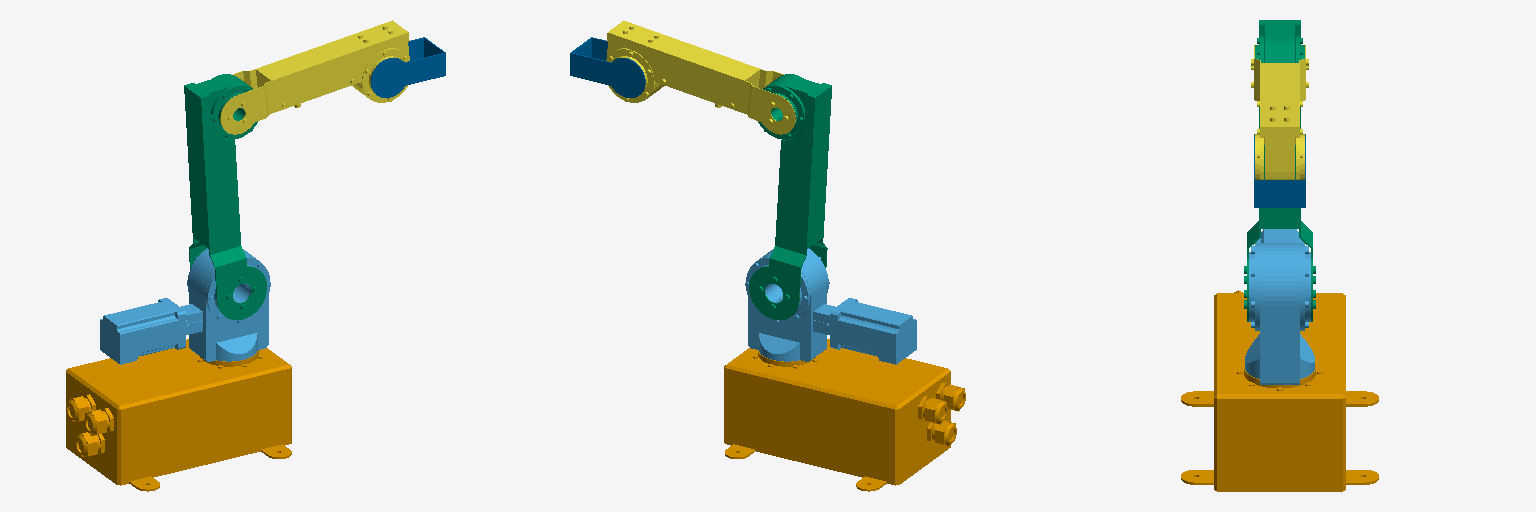
URDF robot description (igus_4dof_robot):
<?xml version="1.0"?>
<robot xmlns:xacro="http://ros.org/wiki/xacro" name="igus_4dof_robot">

<!-- URDF file for the Commonplace Robotics Mover4 robot arm -->
<!-- Version 1.1 from Oct. 04th, 2016. -->
  
  <link name="base_link">
    <visual>
	  <origin rpy="0 0 0" xyz="0 0 0"/>
      <geometry>
          <mesh filename="igus_4dof_robot_meshes/Joint0.dae"  scale="0.001 0.001 0.001"/>
        </geometry>
    </visual>
    <collision>
      <origin xyz="0 0 0" rpy="0 0 0" />
      <geometry>
          <mesh filename="igus_4dof_robot_meshes/Joint0Coll.dae" scale="0.001 0.001 0.001"/>
        </geometry>
    </collision>
  </link>
  <link name="link1">
    <visual>
	  <origin rpy="0 0 0" xyz="0 0 0"/>
      <geometry>
          <mesh filename="igus_4dof_robot_meshes/Joint1.dae"  scale="0.001 0.001 0.001"/>
        </geometry>
    </visual>
    <collision>
      <origin xyz="0 0 0" rpy="0 0 0" />
      <geometry>
          <mesh filename="igus_4dof_robot_meshes/Joint1Coll.dae" scale="0.001 0.001 0.001"/>
        </geometry>
    </collision>
  </link>
  <link name="link2">
    <visual>
	  <origin rpy="0 0 0" xyz="0 0 0"/>
      <geometry>
          <mesh filename="igus_4dof_robot_meshes/Joint2.dae"  scale="0.001 0.001 0.001"/>
        </geometry>
    </visual>
    <collision>
      <origin xyz="0 0 0" rpy="0 0 0" />
      <geometry>
          <mesh filename="igus_4dof_robot_meshes/Joint2Coll.dae" scale="0.001 0.001 0.001"/>
        </geometry>
    </collision>
  </link>
  <link name="link3">
    <visual>
	  <origin rpy="0 0 0" xyz="0 0 0"/>
      <geometry>
          <mesh filename="igus_4dof_robot_meshes/Joint3.dae"  scale="0.001 0.001 0.001"/>
        </geometry>
    </visual>
    <collision>
      <origin xyz="0 0 0" rpy="0 0 0" />
      <geometry>
          <mesh filename="igus_4dof_robot_meshes/Joint3Coll.dae" scale="0.001 0.001 0.001"/>
        </geometry>
    </collision>
  </link>
  <link name="link4">
    <visual>
	  <origin rpy="0 0 0" xyz="0 0 0"/>
      <geometry>
          <mesh filename="igus_4dof_robot_meshes/Joint4.dae"  scale="0.001 0.001 0.001"/>
        </geometry>
    </visual>
    <collision>
      <origin xyz="0 0 0" rpy="0 0 0" />
      <geometry>
          <mesh filename="igus_4dof_robot_meshes/Joint4.dae" scale="0.001 0.001 0.001"/>
        </geometry>
    </collision>
  </link>
  <joint name="joint1" type="continuous">
    <axis xyz="0 0 1"/>
    <parent link="base_link"/>
    <child link="link1"/>
    <origin rpy="0 0 0" xyz="0 0 0.1275"/>
    <limit effort="100" velocity="30"/>
    <joint_properties damping="0.0" friction="0.0"/>
  </joint>
  <joint name="joint2" type="continuous">
    <axis xyz="0 1 0"/>
    <parent link="link1"/>
    <child link="link2"/>
    <origin rpy="0 0 0" xyz="0 0 0.10025"/>
    <limit effort="100" velocity="30"/>
    <joint_properties damping="0.0" friction="0.0"/>
  </joint>
 <joint name="joint3" type="continuous">
    <axis xyz="0 1 0"/>
    <parent link="link2"/>
    <child link="link3"/>
    <origin rpy="0 1.57079632679 0" xyz="0 0 0.270"/>
    <limit effort="100" velocity="30"/>
    <joint_properties damping="0.0" friction="0.0"/>
  </joint>
 <joint name="joint4" type="continuous">
    <axis xyz="0 1 0"/>
    <parent link="link3"/>
    <child link="link4"/>
    <origin rpy="0 0 0" xyz="0 0 0.240"/>
    <limit effort="100" velocity="30"/>
    <joint_properties damping="0.0" friction="0.0"/>
  </joint>
</robot>

--- What the picture shows (computed from the rendered views, not written in the file) ---
3 views of the same robot in one strip: view 1: azimuth 30°, elevation 25°; view 2: azimuth 150°, elevation 25°; view 3: azimuth 270°, elevation 25° (orthographic).
Model igus_4dof_robot with 5 links and 4 joints (4 continuous), rooted at base_link, posed every joint at zero.
Visible links, largest first — view 1: base_link, link2, link1, link3, link4; view 2: base_link, link2, link1, link3, link4; view 3: base_link, link1, link3, link2, link4.
Boxes of the visible links, x1,y1,x2,y2 form: base_link: (66,339,291,491); link2: (184,74,266,319); link1: (100,248,270,364); link3: (220,20,409,134); link4: (371,37,445,97); base_link: (724,339,965,491); link2: (749,74,831,319); link1: (745,248,916,364); link3: (606,21,795,134); link4: (570,37,645,97); base_link: (1181,290,1378,491); link1: (1245,229,1314,384); link3: (1251,45,1308,179); link2: (1244,20,1315,321); link4: (1254,134,1305,207).
Bounding box of the posed robot: 0.5812 × 0.225 × 0.5589 m (x, y, z).
Meshes: 5 distinct files referenced, 5 mesh visuals loaded (5 Collada DAE).